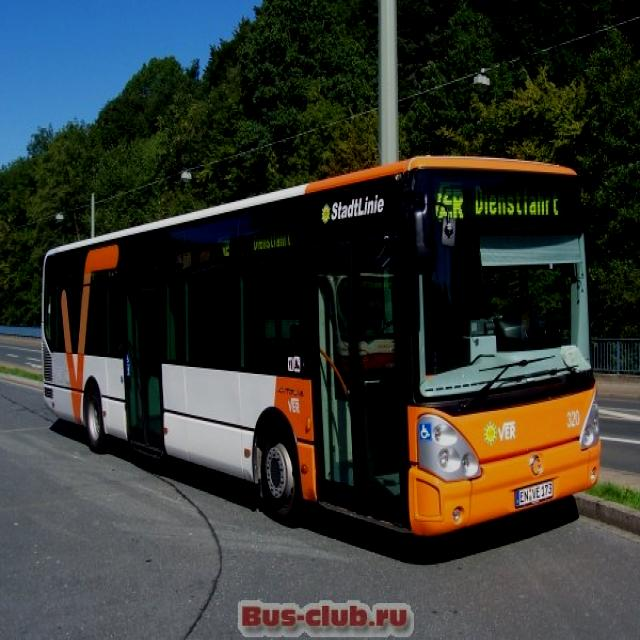bus: (41, 152, 607, 544)
